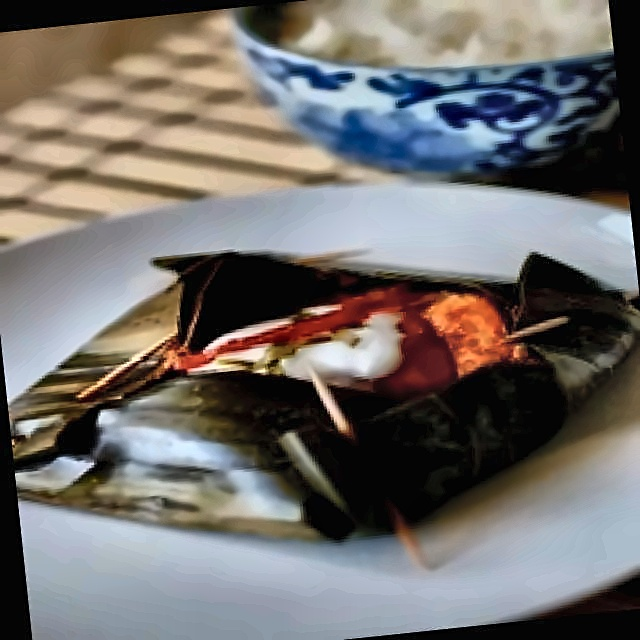rice: (275, 0, 612, 84)
